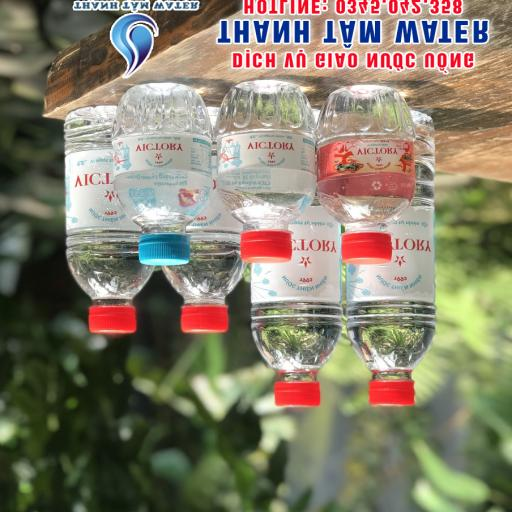bottle: (345, 111, 436, 411), (64, 106, 154, 336), (251, 197, 342, 406), (111, 84, 213, 265), (216, 80, 316, 263), (317, 85, 416, 264), (163, 184, 246, 333)
